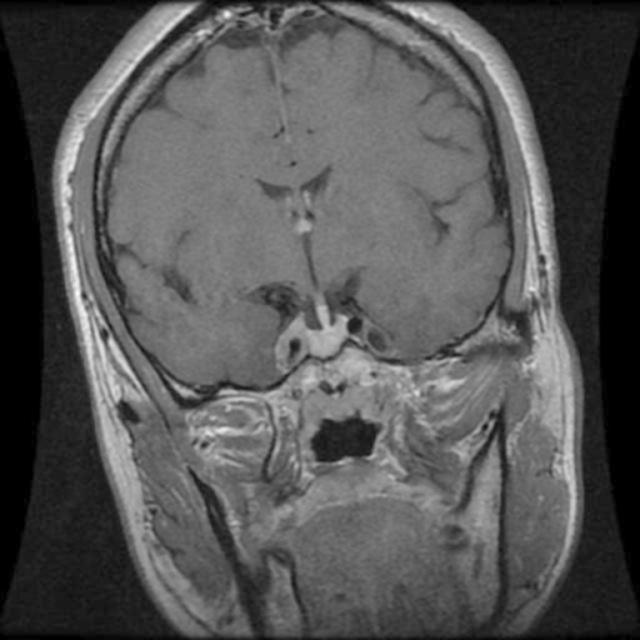no tumor: (261, 308, 365, 388)
